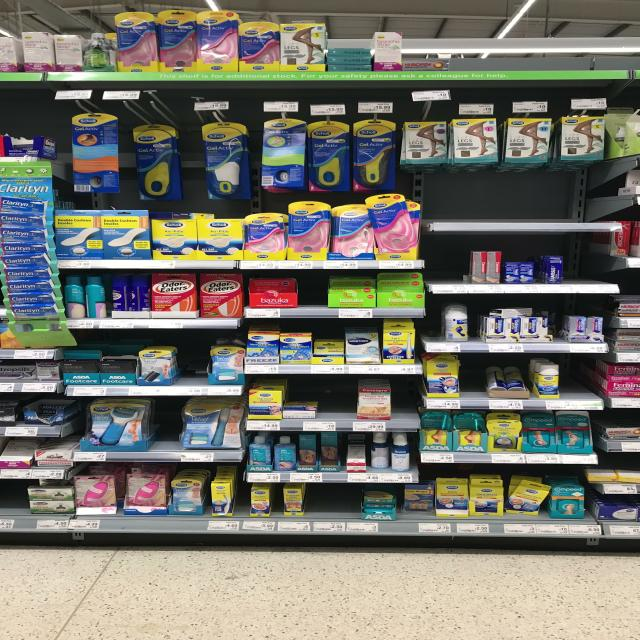void: (438, 178, 592, 220), (153, 398, 183, 448), (179, 333, 208, 384), (313, 485, 361, 514), (430, 251, 466, 280), (0, 480, 31, 511), (327, 384, 355, 417), (575, 255, 606, 284), (400, 386, 415, 415)
